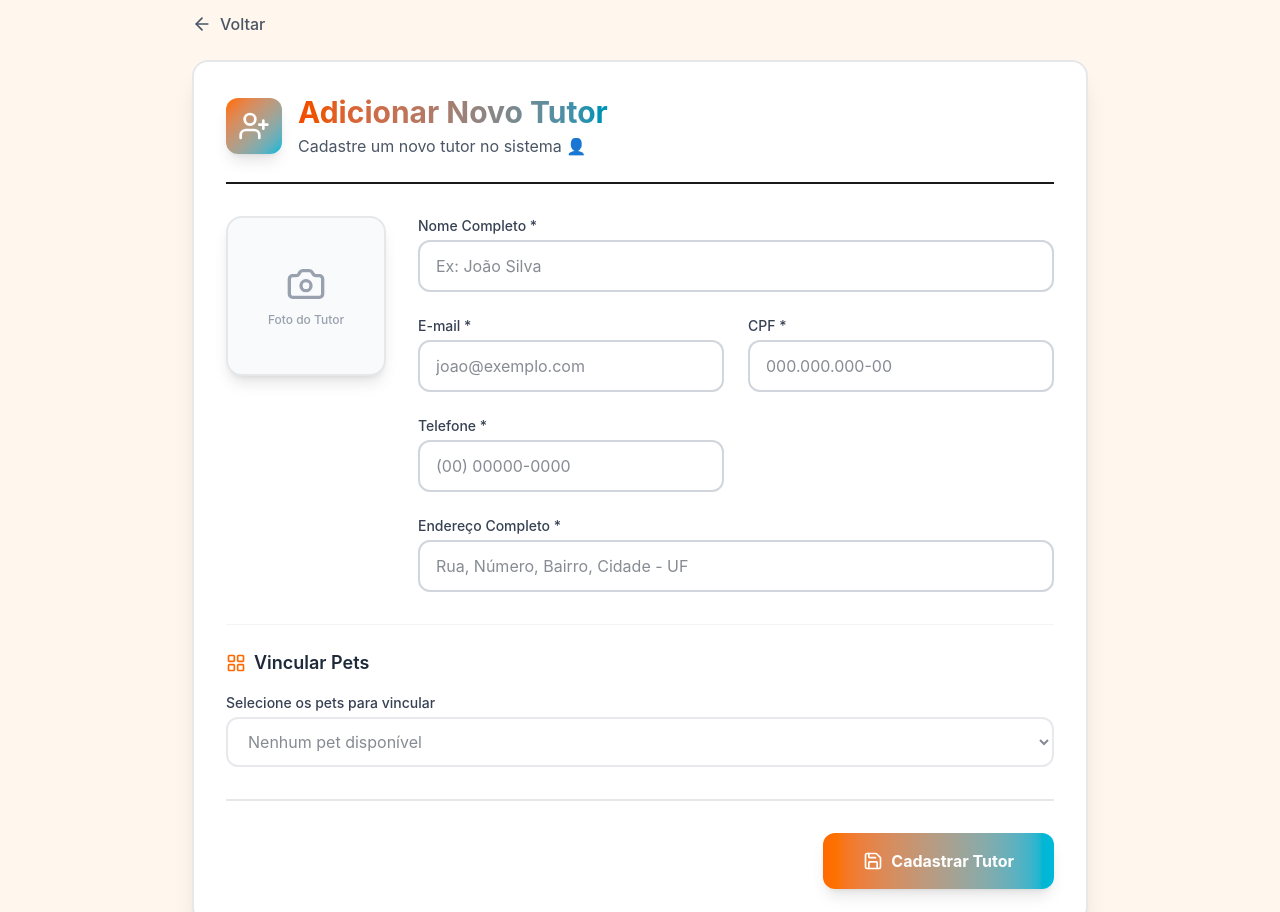
Test: TutorAdd › deve exibir erro para CPF inválido
The width and height of the screenshot is (1280, 912).
Type "João Silva" into the field labelled "Nome Completo *".
click(736, 266); type("João Silva")  # box [418,240,1054,292]
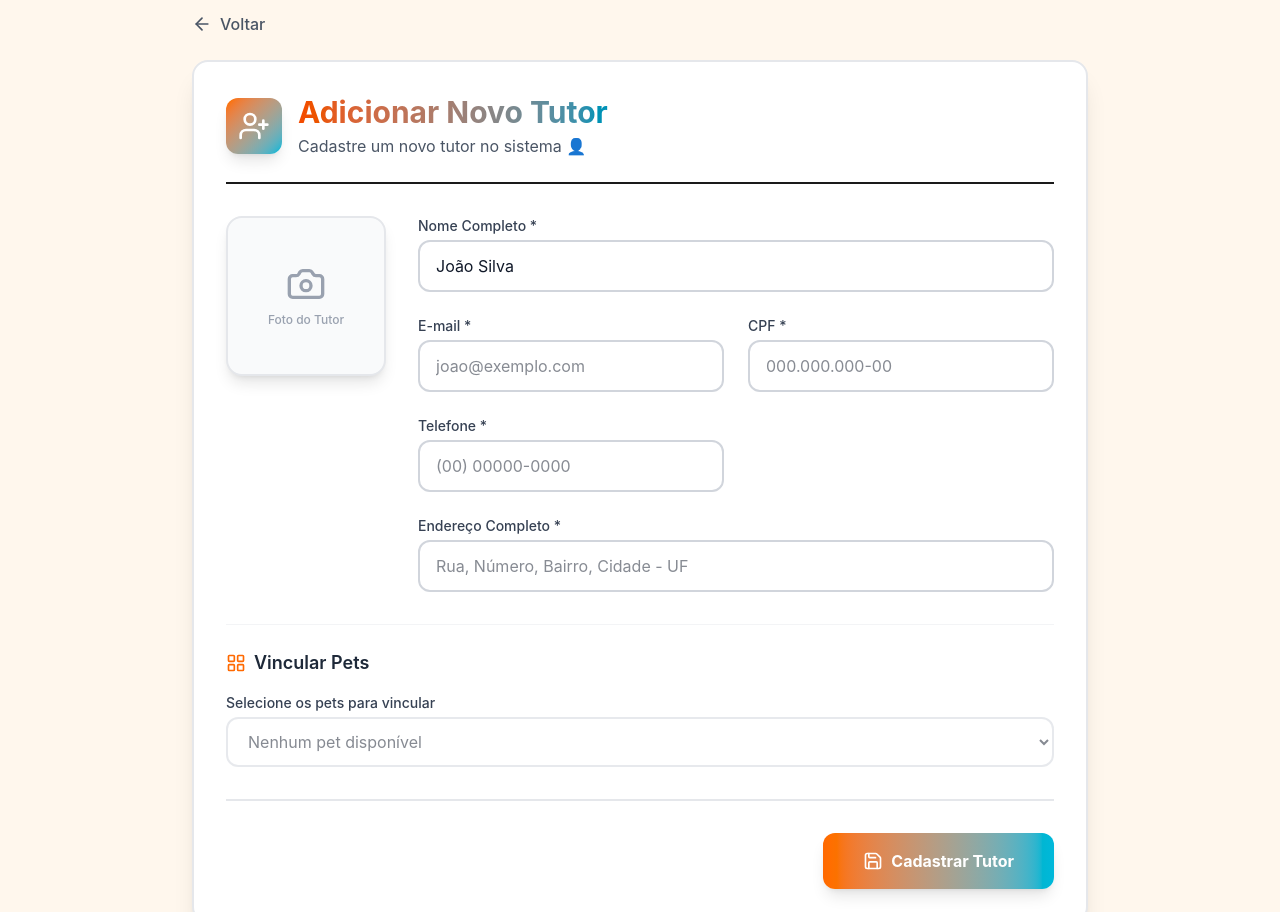
Type "joao@example.com" into the field labelled "E-mail *".
click(571, 366); type("joao@example.com")  # box [418,340,724,392]
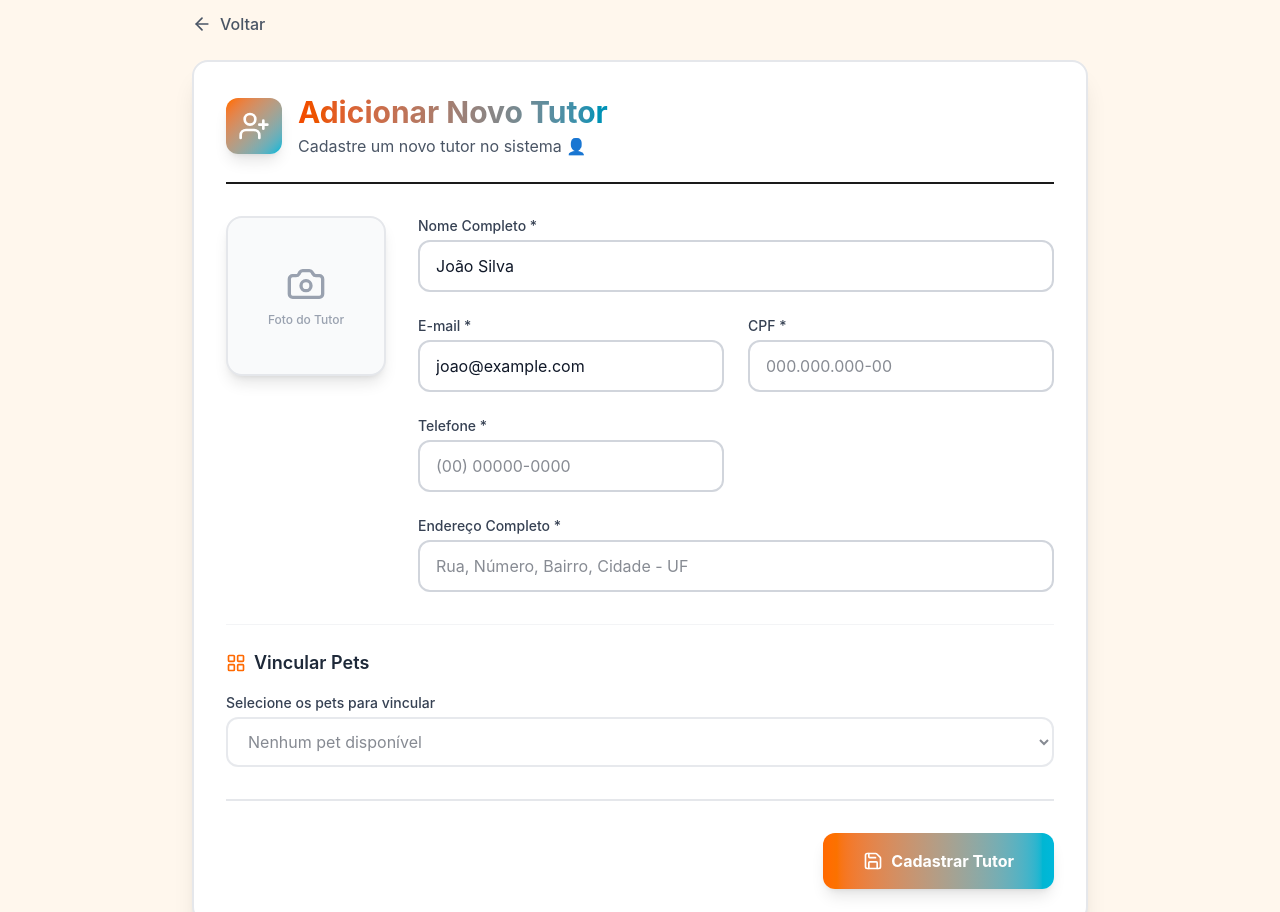
// CPF com dígitos verificadores incorretos
Type "123.456.789-00" into the field labelled "CPF *".
click(901, 366); type("123.456.789-00")  # box [748,340,1054,392]
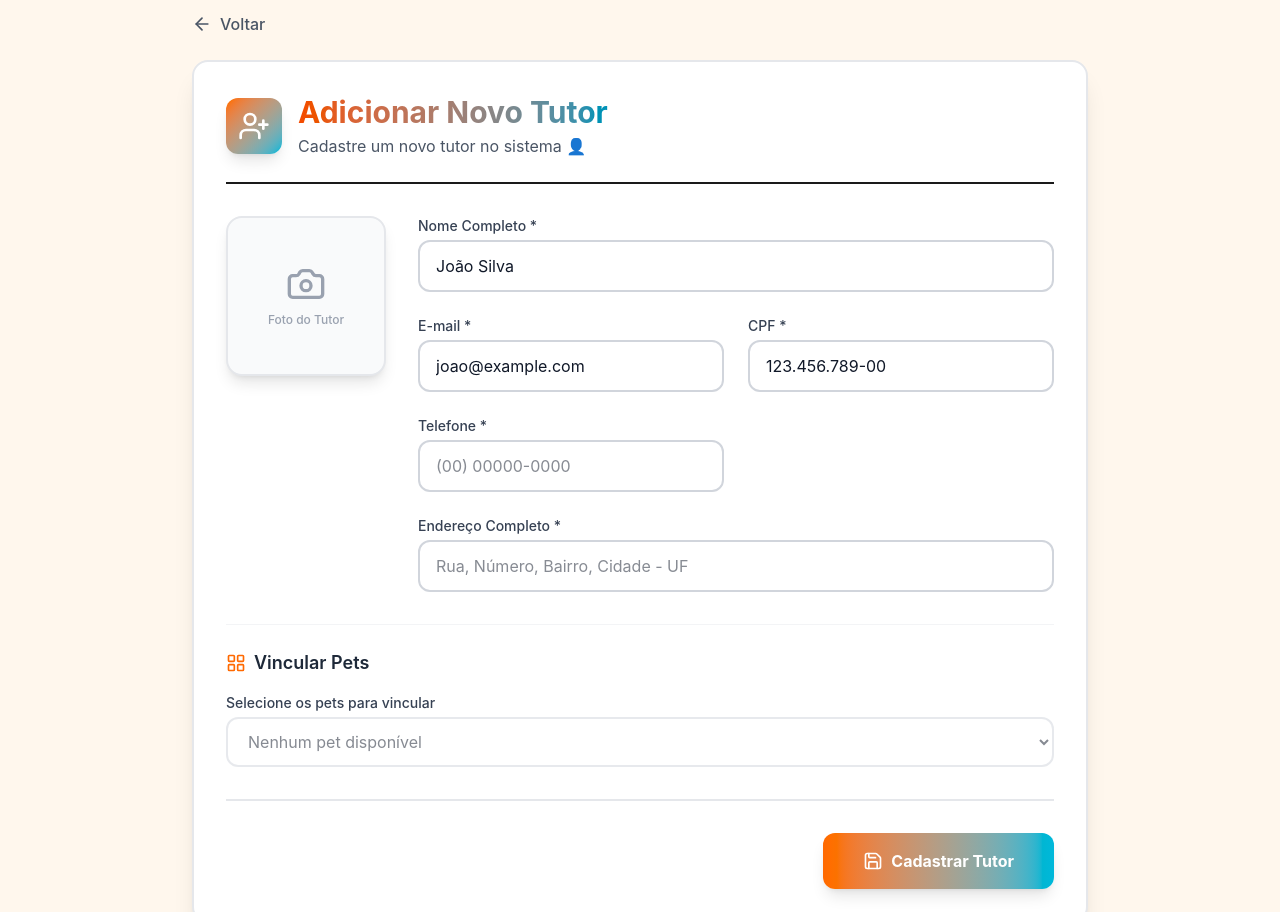
Type "(11) 98888-8888" into the field labelled "Telefone *".
click(571, 466); type("(11) 98888-8888")  # box [418,440,724,492]
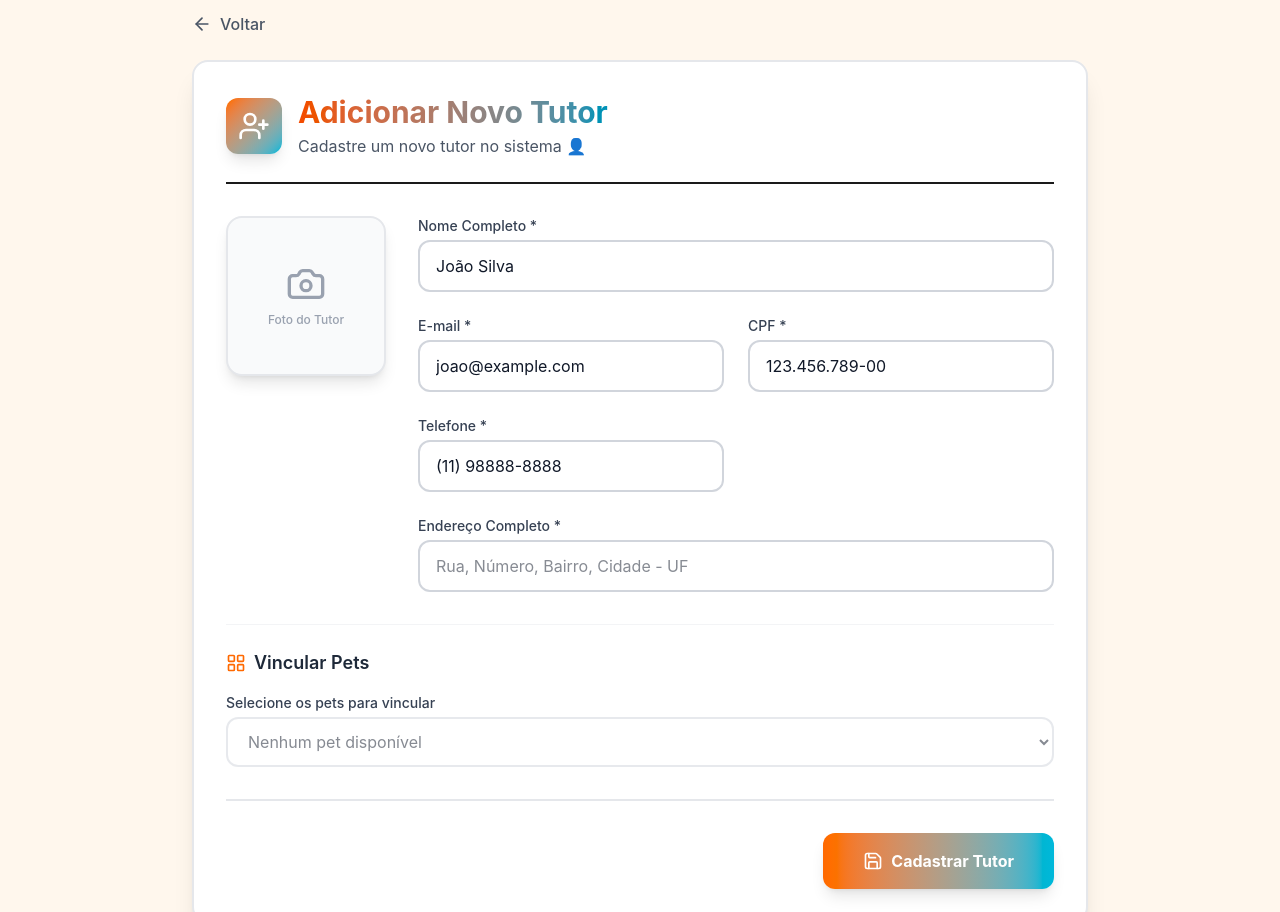
Type "Rua Exemplo, 123" into the field labelled "Endereço Completo *".
click(736, 566); type("Rua Exemplo, 123")  # box [418,540,1054,592]
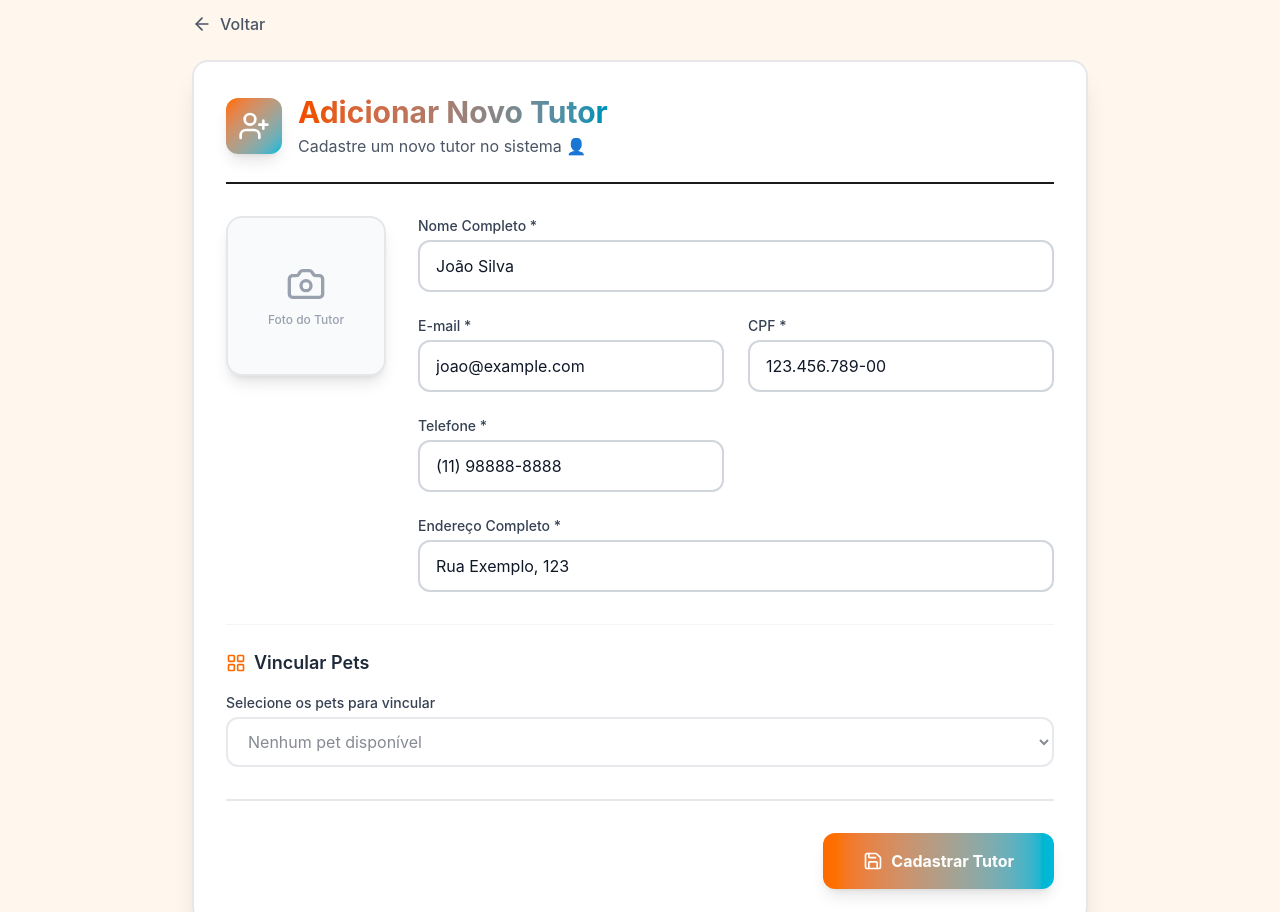
Submit the form, box [226,216,1054,889]
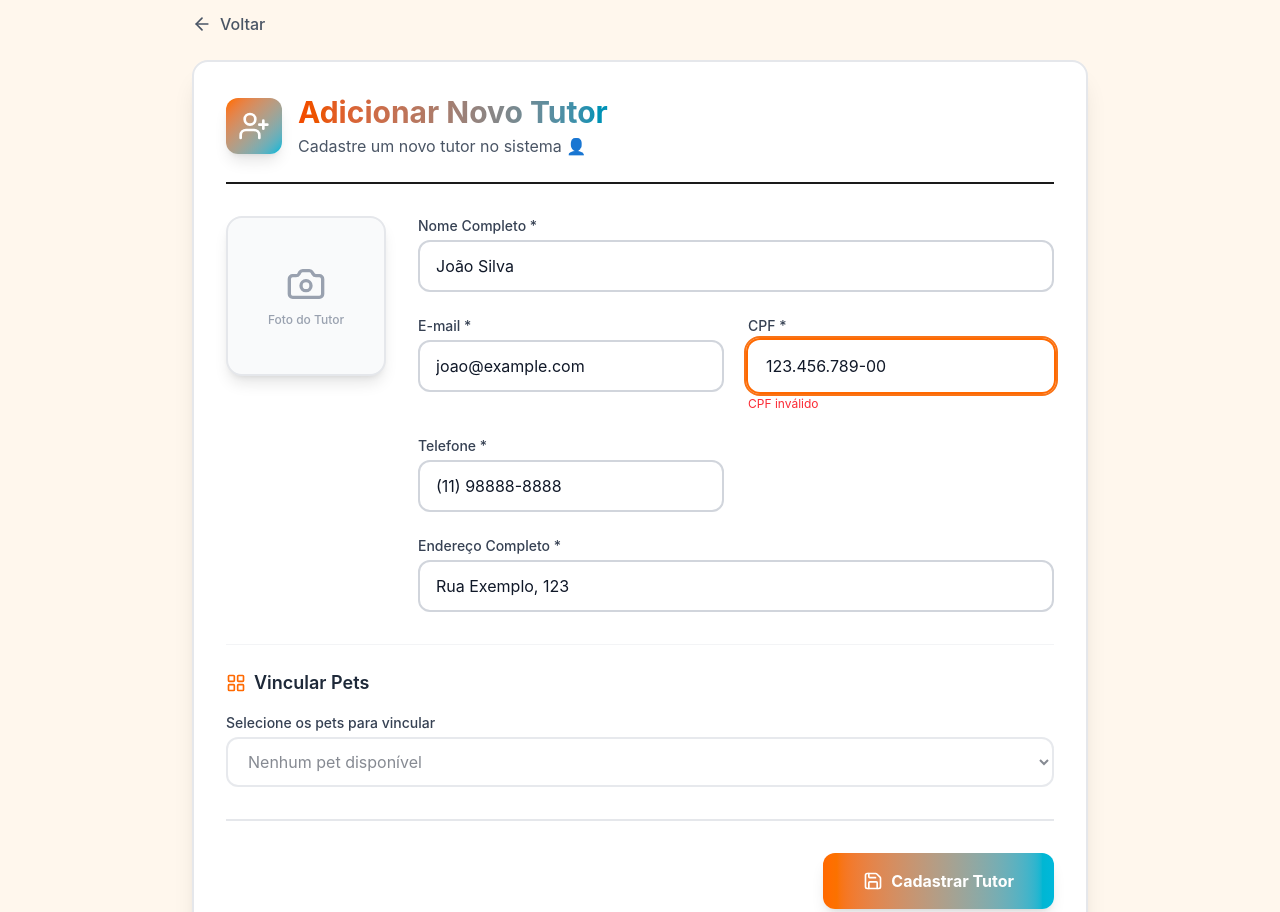
Now the text "CPF inválido" is shown, box [748,396,818,411]
